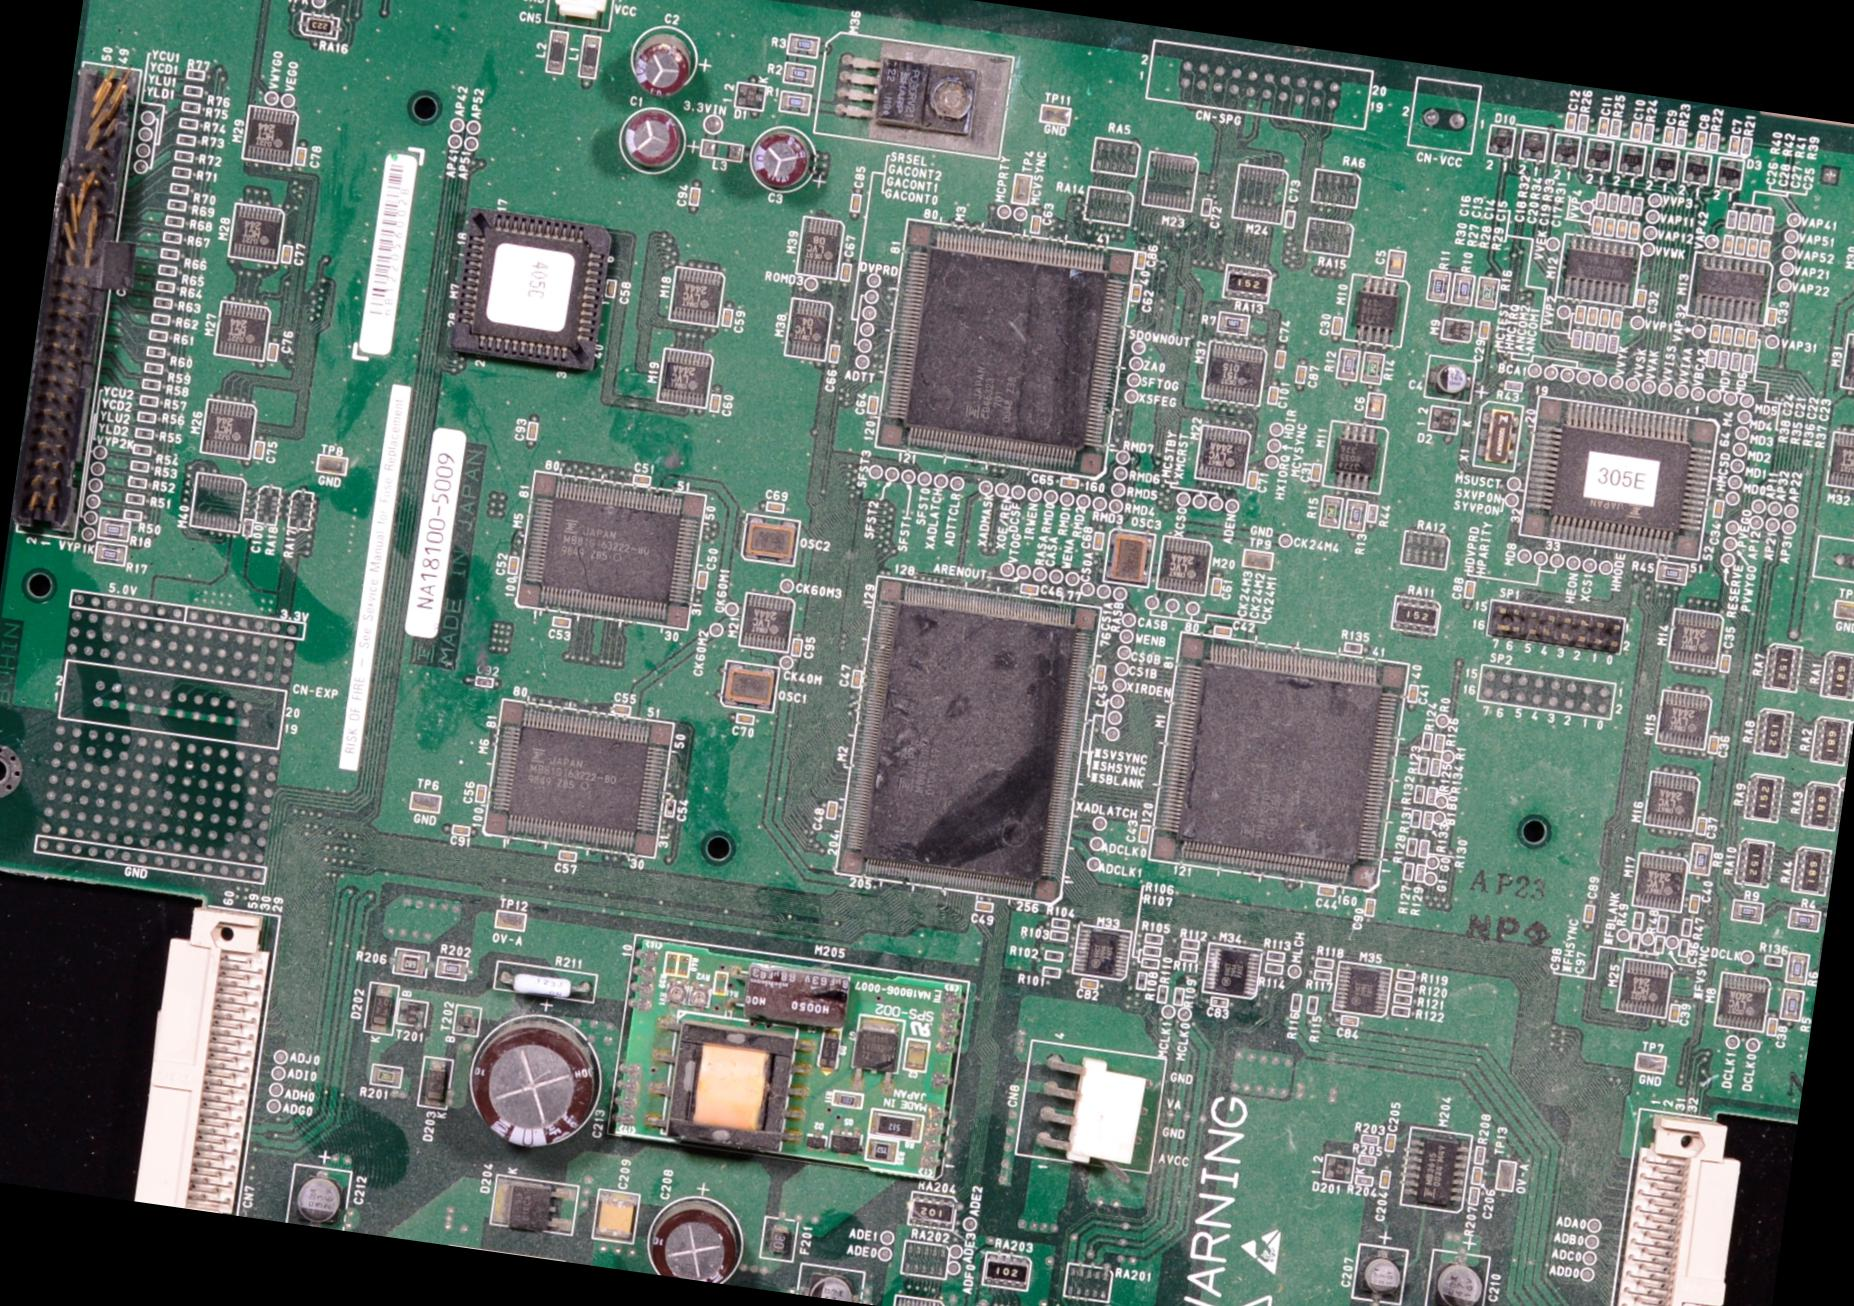Capacitor Jumper: (469, 1012, 603, 1156), (647, 1194, 740, 1283), (746, 126, 811, 191), (287, 1165, 350, 1230), (630, 33, 695, 96), (619, 106, 681, 171), (1426, 1251, 1489, 1305), (586, 1190, 643, 1249), (1355, 1244, 1406, 1303), (800, 1265, 859, 1300), (1386, 243, 1412, 280), (1417, 724, 1436, 758), (684, 182, 705, 209), (1290, 359, 1311, 386), (1365, 392, 1386, 418), (1268, 348, 1287, 375), (1594, 116, 1612, 141), (712, 970, 731, 994), (732, 711, 757, 728), (1691, 813, 1710, 834), (1475, 321, 1494, 342), (1265, 384, 1282, 407), (1725, 134, 1742, 157), (1634, 288, 1649, 312), (848, 189, 863, 213), (1588, 211, 1602, 236), (254, 435, 268, 461), (1659, 124, 1676, 146), (677, 953, 691, 977), (694, 571, 711, 591), (291, 144, 307, 165), (719, 307, 735, 328), (1019, 581, 1037, 598), (557, 848, 577, 864), (526, 423, 541, 442), (1598, 305, 1611, 329), (1718, 233, 1732, 254), (1708, 326, 1723, 348), (1207, 578, 1221, 599), (846, 669, 861, 690), (1707, 731, 1718, 756), (822, 800, 837, 820), (1198, 198, 1212, 218), (1628, 122, 1642, 141), (264, 343, 276, 367), (1617, 218, 1629, 239), (1030, 215, 1043, 236), (1133, 250, 1146, 271), (790, 637, 803, 659), (550, 616, 571, 629), (1571, 305, 1586, 324), (866, 394, 880, 413), (766, 500, 784, 514), (1717, 653, 1731, 671), (1280, 206, 1292, 229), (1080, 977, 1099, 989), (1383, 1132, 1396, 1152), (839, 263, 851, 284), (1379, 1169, 1389, 1193), (283, 240, 293, 264), (633, 472, 651, 485), (473, 783, 485, 803), (451, 824, 471, 835), (1587, 307, 1598, 326), (1711, 498, 1723, 517), (1341, 1013, 1357, 1028), (1732, 237, 1745, 254), (666, 797, 675, 818), (664, 953, 674, 974), (1361, 898, 1372, 916), (1611, 310, 1622, 328), (827, 345, 838, 363), (615, 701, 629, 715), (1751, 215, 1764, 230), (975, 902, 995, 912), (1604, 215, 1614, 235), (1628, 219, 1638, 239), (1723, 324, 1732, 343), (506, 555, 516, 575), (1566, 112, 1576, 131), (1725, 211, 1737, 228), (1406, 686, 1417, 702), (1210, 995, 1228, 1005), (1747, 237, 1756, 256), (1759, 240, 1769, 259), (1765, 304, 1775, 322), (1214, 626, 1232, 636), (1696, 130, 1706, 148), (1464, 581, 1474, 598), (1318, 888, 1337, 896), (1764, 215, 1772, 233), (1735, 329, 1745, 345), (1095, 664, 1105, 680), (1139, 824, 1149, 838), (1747, 331, 1755, 345), (1741, 212, 1747, 229)
IC: (844, 581, 1101, 899), (1157, 629, 1415, 899), (872, 218, 1140, 475), (442, 206, 618, 386), (482, 698, 675, 859), (1522, 386, 1701, 555), (523, 473, 708, 629), (1398, 1124, 1467, 1208), (1194, 937, 1272, 999), (1201, 345, 1266, 410), (1612, 960, 1673, 1023), (1067, 920, 1132, 979), (1669, 606, 1728, 671), (736, 591, 800, 650), (1639, 772, 1697, 835), (239, 102, 297, 164), (1631, 849, 1684, 913), (1331, 965, 1392, 1020), (1714, 972, 1771, 1030), (185, 478, 246, 530), (223, 206, 280, 261), (216, 301, 270, 358), (201, 399, 254, 455), (1197, 424, 1249, 478), (1660, 693, 1706, 746), (885, 1290, 943, 1305)
Resistor Jumper: (1386, 598, 1444, 640), (1088, 136, 1139, 181), (1311, 168, 1366, 209), (366, 1059, 406, 1095), (1723, 895, 1765, 929), (428, 951, 472, 982), (1225, 271, 1276, 295), (776, 88, 820, 114), (387, 950, 428, 977), (784, 31, 821, 58), (1355, 346, 1382, 383), (1214, 308, 1251, 334), (1335, 346, 1362, 377), (1475, 276, 1498, 311), (1691, 842, 1714, 876), (1427, 269, 1453, 298), (92, 541, 124, 564), (783, 62, 814, 85), (98, 517, 130, 539), (1788, 907, 1816, 931), (1456, 269, 1474, 304), (1390, 965, 1422, 985), (1263, 947, 1287, 965), (1703, 133, 1718, 154), (1409, 783, 1424, 804), (133, 442, 150, 459), (1576, 112, 1588, 134), (1742, 353, 1756, 373), (1707, 349, 1718, 373), (1050, 917, 1071, 930), (1262, 961, 1283, 974), (171, 165, 192, 178), (155, 278, 177, 291), (148, 314, 170, 326), (1043, 964, 1061, 978), (144, 360, 163, 375), (185, 68, 208, 79), (167, 196, 187, 209), (146, 345, 165, 358), (137, 393, 157, 406), (136, 410, 155, 423), (1156, 982, 1167, 1004), (1354, 1175, 1375, 1186), (181, 100, 199, 113), (1608, 120, 1621, 139), (172, 148, 192, 160), (157, 264, 177, 276), (140, 377, 160, 389), (133, 427, 153, 438), (1050, 930, 1067, 943), (129, 492, 146, 505), (179, 117, 201, 127), (1044, 950, 1063, 961), (165, 232, 181, 245), (131, 459, 147, 472), (165, 213, 182, 225), (130, 476, 147, 488), (178, 133, 196, 143), (1730, 351, 1740, 369), (123, 510, 141, 520), (150, 328, 165, 339), (1717, 351, 1727, 367), (168, 181, 185, 191), (154, 297, 171, 307), (1738, 137, 1747, 157), (161, 249, 177, 259), (185, 86, 202, 95), (1677, 130, 1683, 150)
Transistor: (394, 996, 425, 1028), (452, 1005, 482, 1036), (410, 789, 445, 814)
